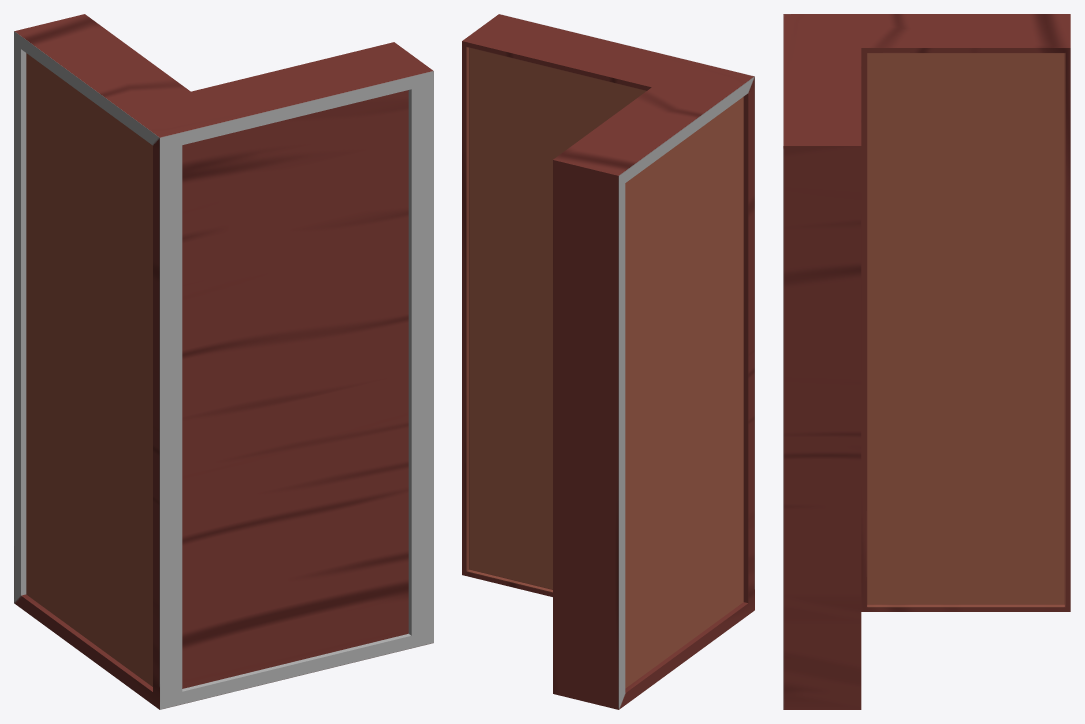
File: Lkolon2.fbx
3 renders of one model, left to right at view 1: azimuth 30°, elevation 25°; view 2: azimuth 150°, elevation 25°; view 3: azimuth 270°, elevation 25°, orthographic. The views are drawn at different scales.
Parts seen in each view (by area): view 1: duvar7; view 2: duvar7; view 3: duvar7.
Boxes of the visible parts, left/top/right/bottom form: duvar7: left=14, top=14, right=433, bottom=709; duvar7: left=462, top=14, right=754, bottom=709; duvar7: left=783, top=14, right=1070, bottom=709.
Size of the model in its own units: 2133 by 4255 by 1964.
